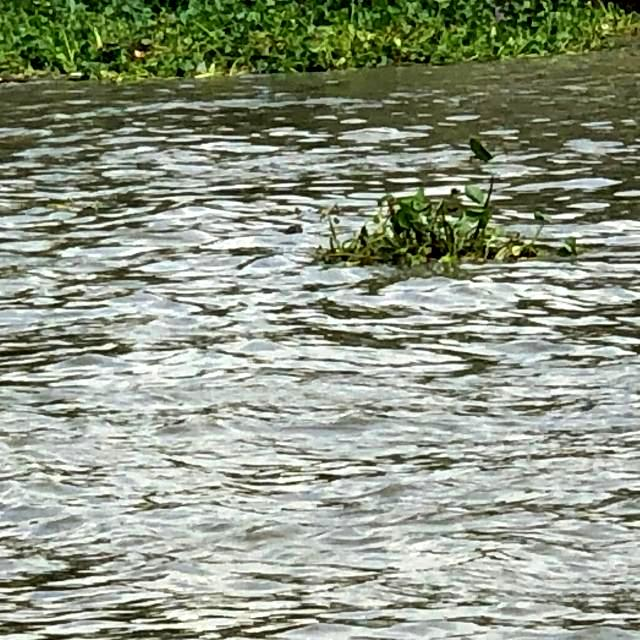water-hyacinth: (3, 1, 633, 73), (308, 173, 590, 272)
